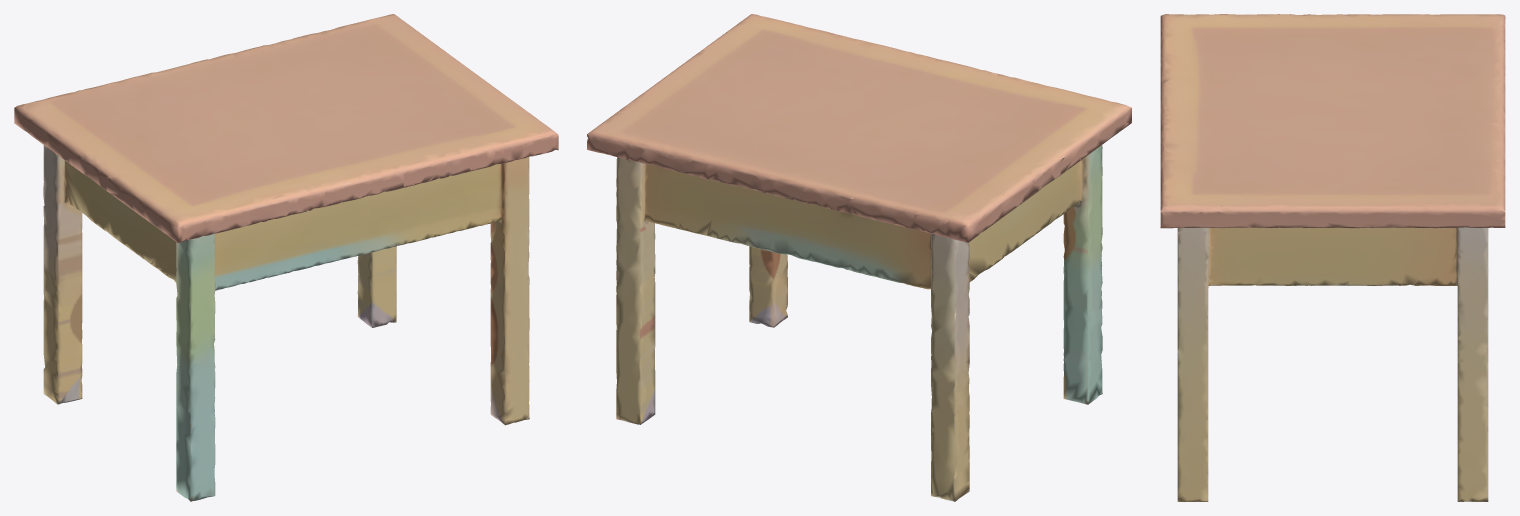
The model's file is desk.glb.
The picture shows the model from 3 angles, left to right: view 1: azimuth 30°, elevation 25°; view 2: azimuth 150°, elevation 25°; view 3: azimuth 270°, elevation 25°; orthographic projection. The views are drawn at different scales.
Parts seen in each view (by area): view 1: model; view 2: model; view 3: model.
Boxes of the visible parts, x1,y1,x2,y2 form: model: (14,14,558,501); model: (587,14,1131,501); model: (1160,14,1505,501).
Size of the model in its own units: 1.9 by 1.38 by 1.41.
1 material, 1 textured.
